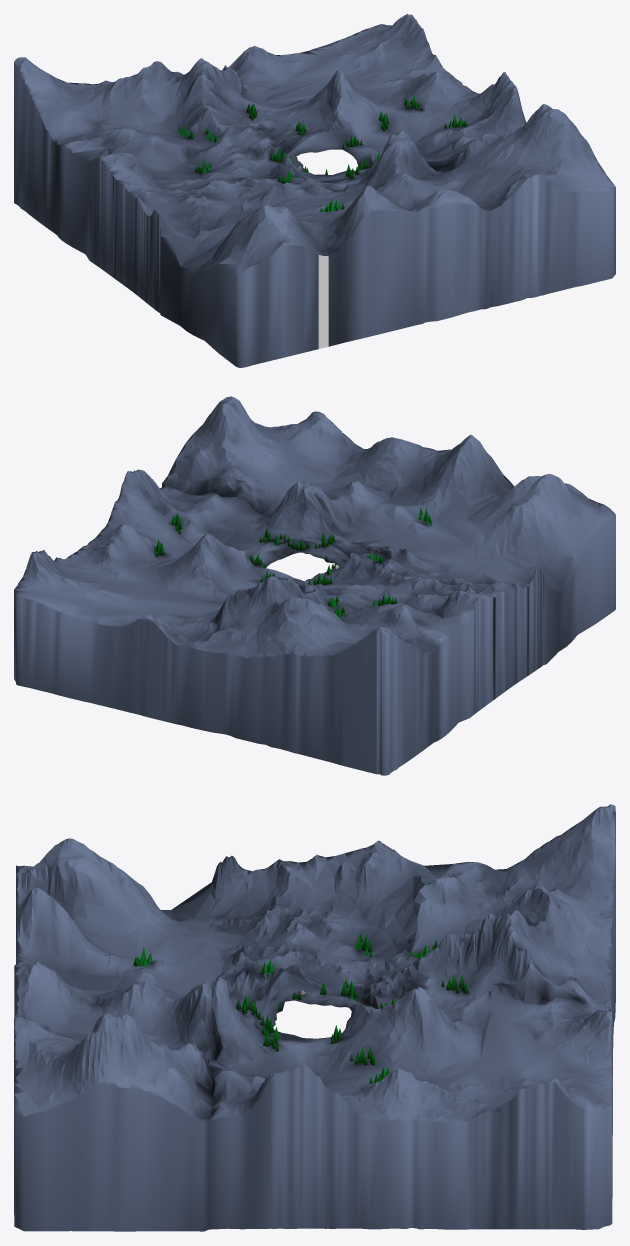
Rendered from AllSky_DemoEnvironment02.fbx.
The picture shows the model from 3 angles, top to bottom: view 1: azimuth 30°, elevation 25°; view 2: azimuth 150°, elevation 25°; view 3: azimuth 270°, elevation 25°; orthographic projection. The views are drawn at different scales.
Parts seen in each view (by area): view 1: AllSky_DemoEnvironment; view 2: AllSky_DemoEnvironment; view 3: AllSky_DemoEnvironment.
Part boxes in pixels (x1,y1,x2,y2): AllSky_DemoEnvironment: (14,14,615,367); AllSky_DemoEnvironment: (14,396,615,775); AllSky_DemoEnvironment: (14,804,615,1231).
Size of the model in its own units: 150950 by 56121 by 155930.
